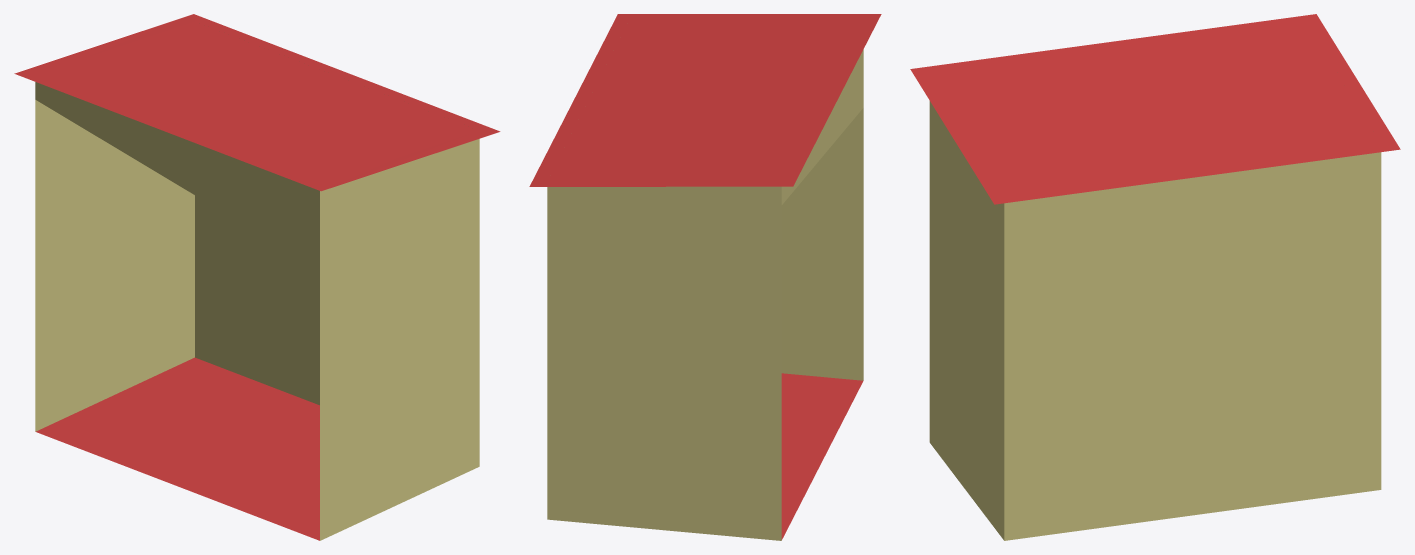
3 renders of one model, left to right at view 1: azimuth 30°, elevation 25°; view 2: azimuth 150°, elevation 25°; view 3: azimuth 270°, elevation 25°, orthographic. The views are drawn at different scales.
Bounding box in the file's own units: 6.35 × 7.94 × 6.59.
